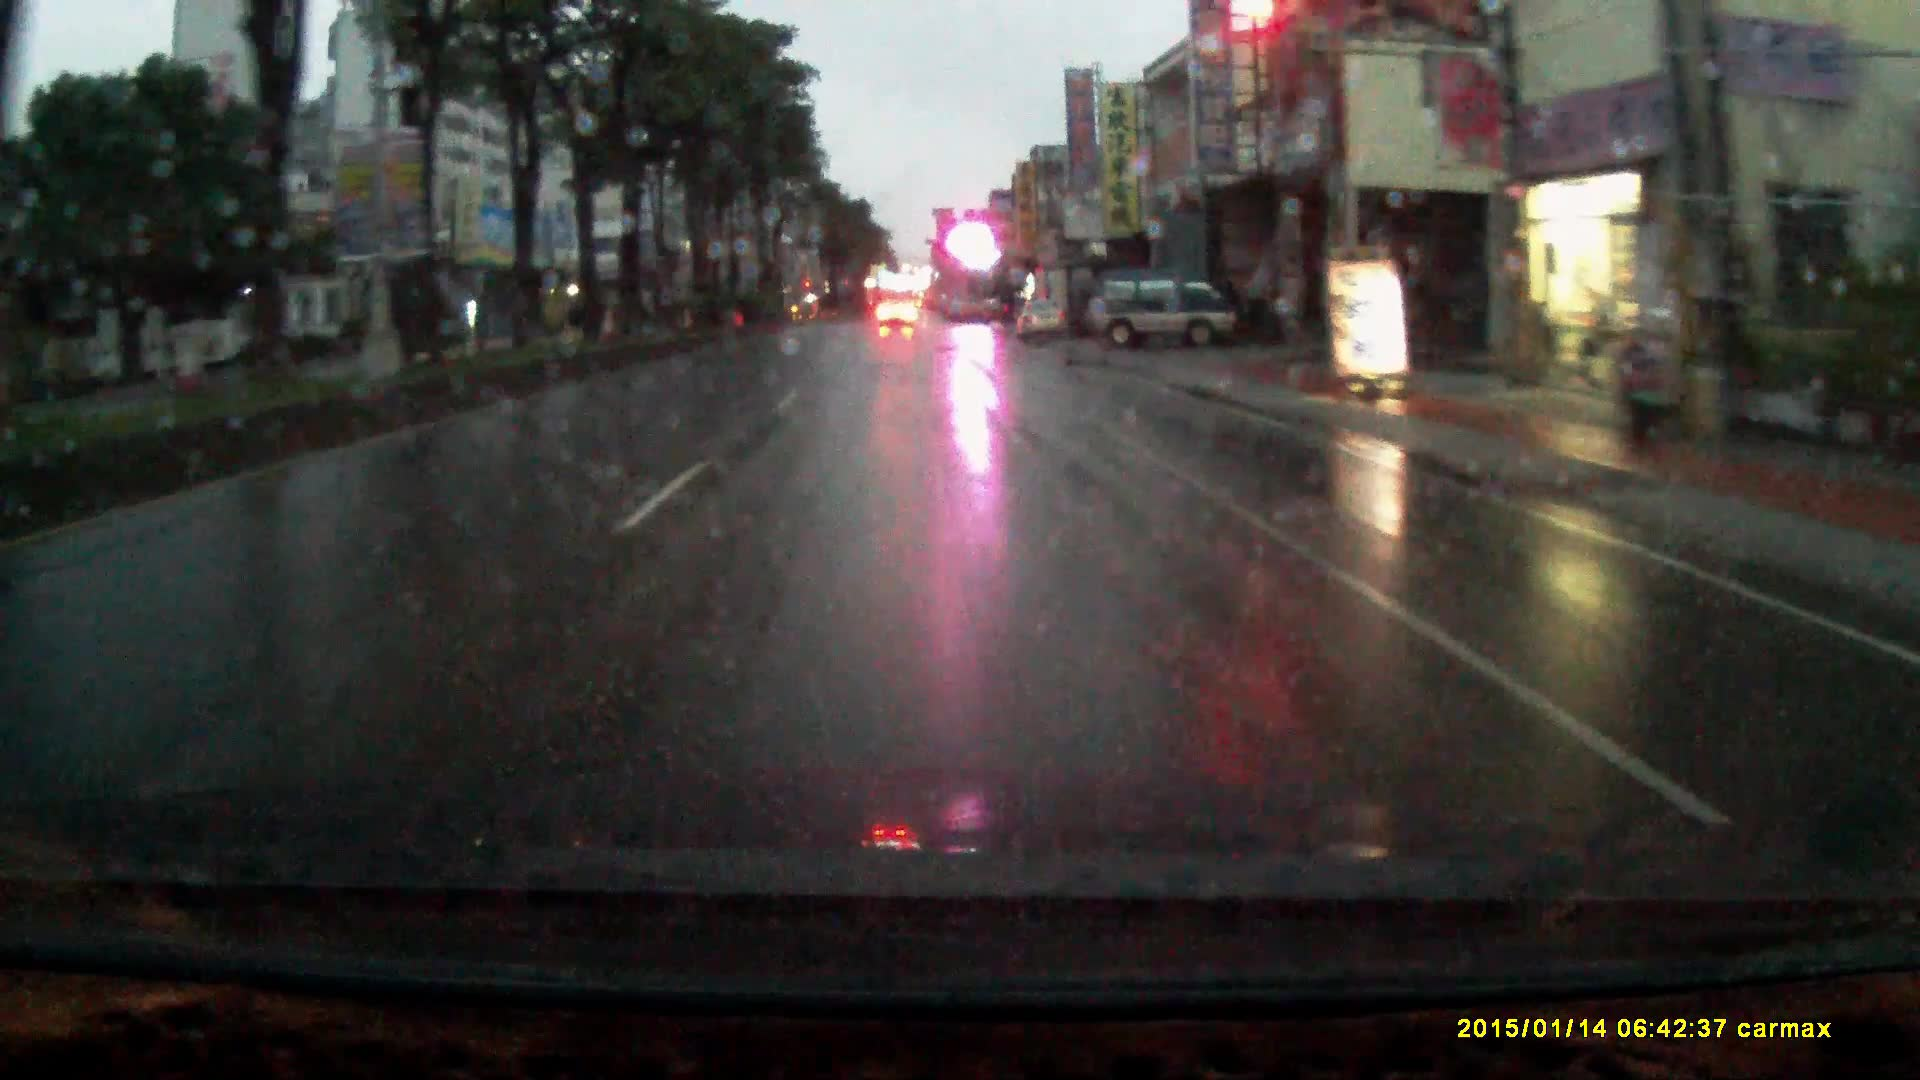vehicle: (1081, 276, 1244, 347), (1029, 247, 1098, 330), (1015, 295, 1069, 342), (877, 291, 919, 320)
